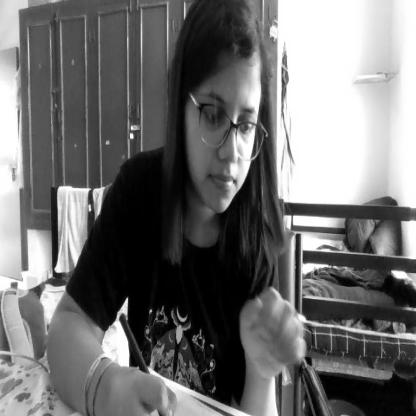Distracted: (178, 0, 269, 225)
